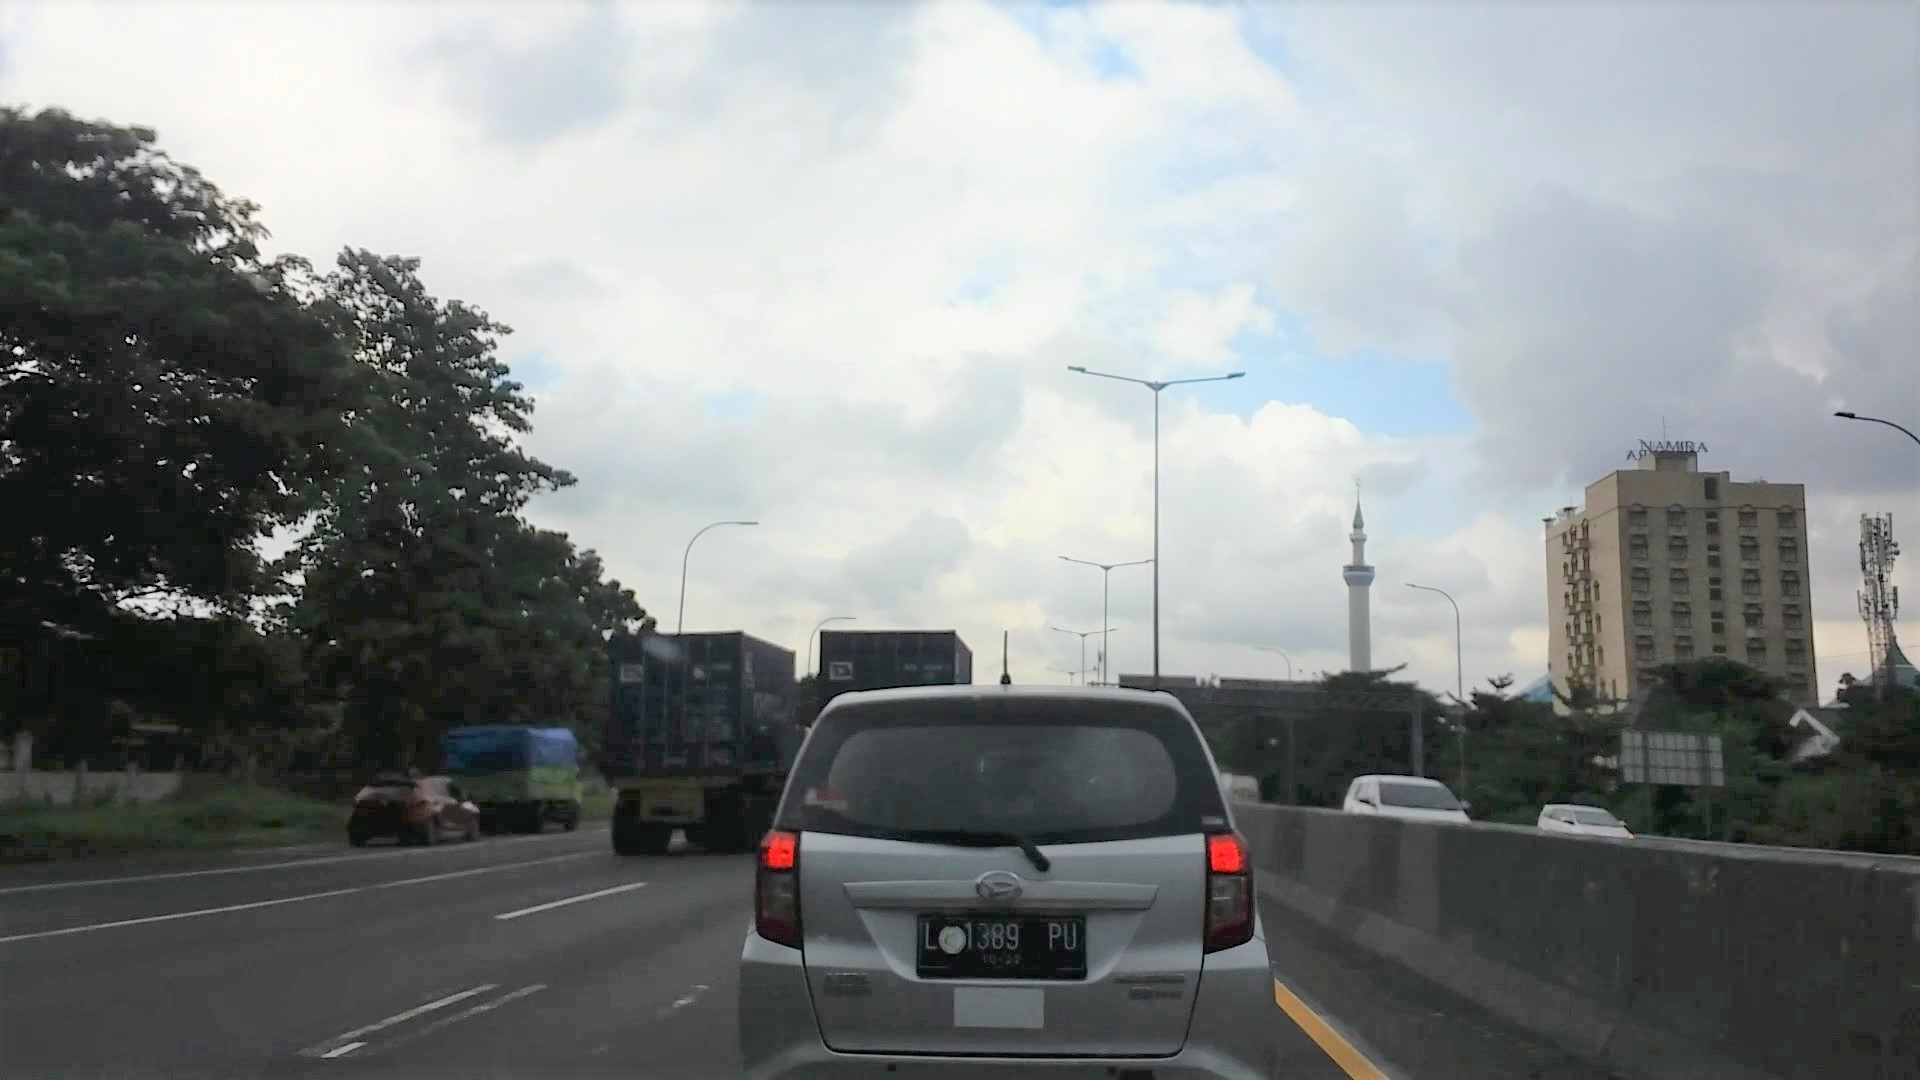plate_positive: (916, 913, 1088, 980)
